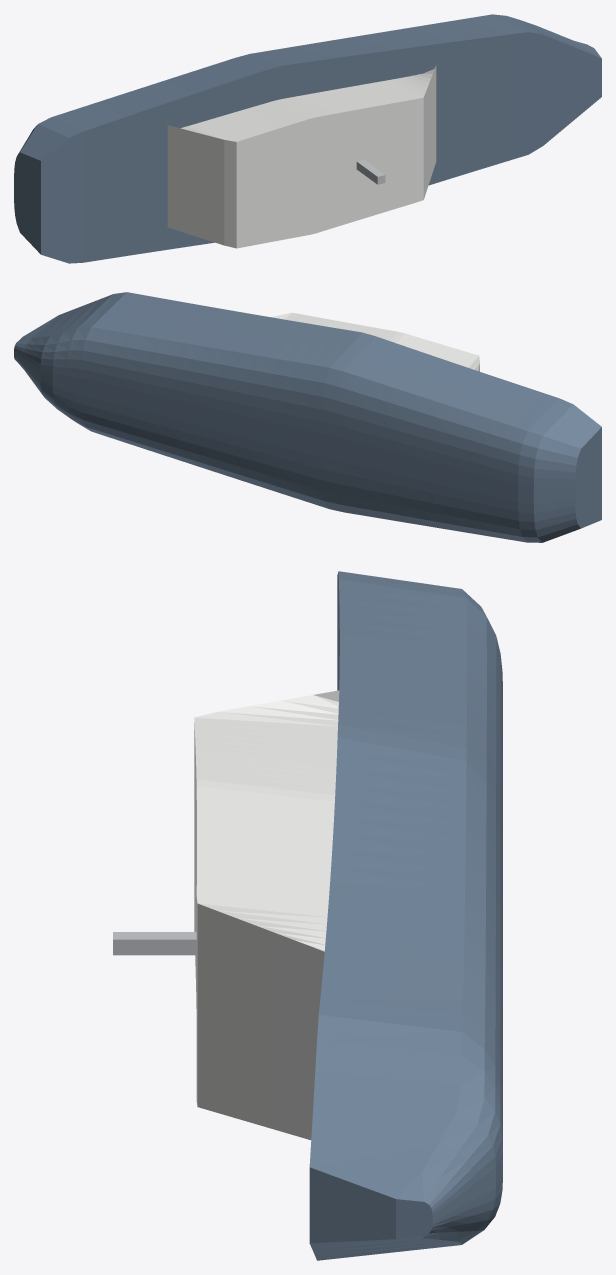
Rendered from loft-power-small-highside.glb.
3 renders of one model, top to bottom at view 1: azimuth 30°, elevation 25°; view 2: azimuth 150°, elevation 25°; view 3: azimuth 270°, elevation 25°, orthographic. The views are drawn at different scales.
Visible parts, largest first — view 1: power-small-loft-highside; view 2: power-small-loft-highside; view 3: power-small-loft-highside.
Part boxes in pixels (bbox=[...]): power-small-loft-highside: bbox=[14, 14, 601, 263]; power-small-loft-highside: bbox=[14, 292, 601, 542]; power-small-loft-highside: bbox=[113, 571, 502, 1260].
Size of the model in its own units: 1.8 by 0.5034 by 0.5393.
